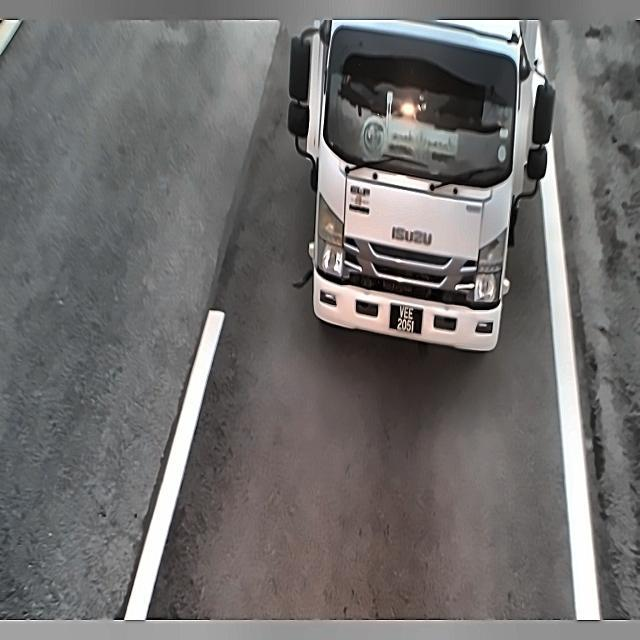car: (386, 302, 429, 340)
